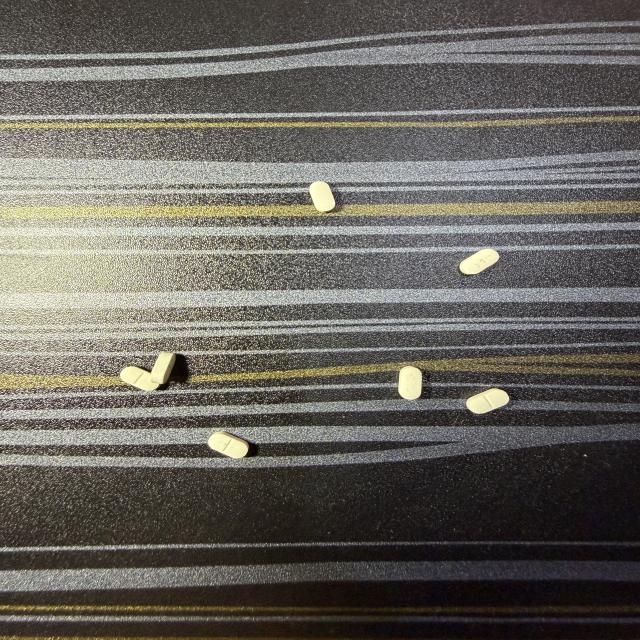pill: (208, 432, 249, 458), (467, 388, 509, 413), (459, 249, 499, 274), (120, 366, 159, 390), (151, 352, 176, 384), (309, 182, 335, 212), (399, 366, 422, 399)
